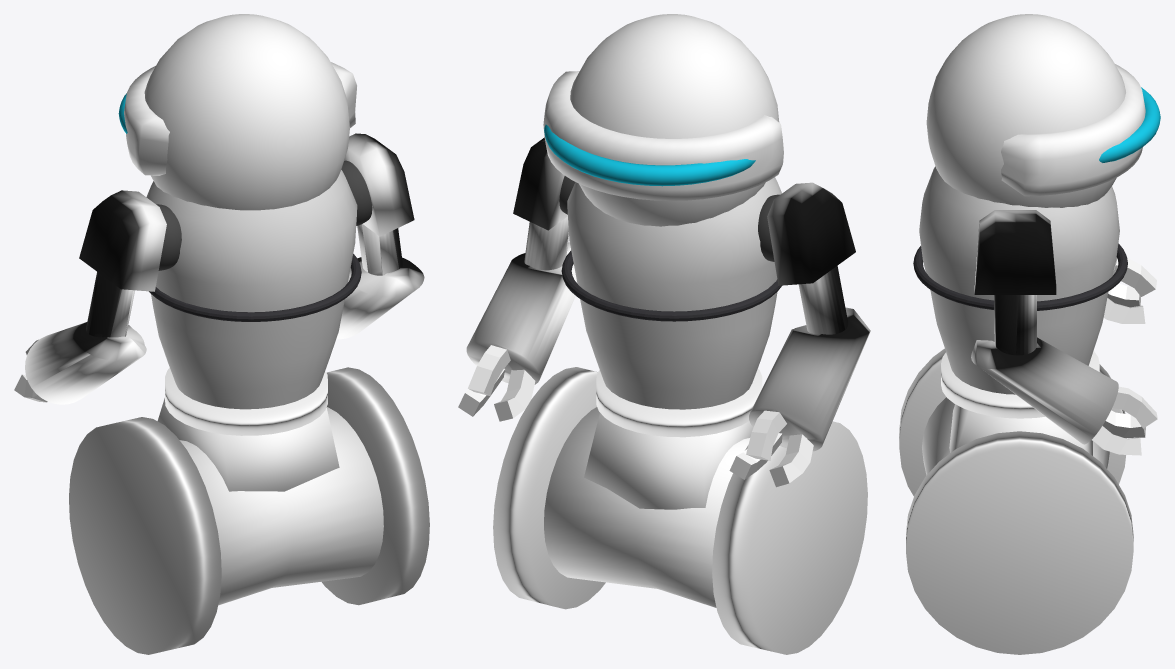
The model's file is robot1.fbx.
3 renders of one model, left to right at view 1: azimuth 30°, elevation 25°; view 2: azimuth 150°, elevation 25°; view 3: azimuth 270°, elevation 25°, orthographic. The views are drawn at different scales.
Parts seen in each view (by area): view 1: Сфера, Сфера.001, Цилиндр.001, Цилиндр, Куб.001, Цилиндр.002, Куб.007, Куб, Цилиндр.003, Torus, Torus.002, Сфера.003 (+1 smaller); view 2: Сфера, Цилиндр.001, Сфера.001, Куб.001, Цилиндр, Куб.007, Цилиндр.002, Torus, Куб, Цилиндр.003, Torus.001, Torus.002 (+1 smaller); view 3: Цилиндр.002, Сфера.001, Куб.007, Сфера, Torus, Цилиндр.001, Куб, Цилиндр.003, Torus.002, Куб.001, Цилиндр, Torus.001.
Boxes of the visible parts, x1,y1,x2,y2 form: Сфера: (146, 170, 357, 409); Сфера.001: (144, 14, 349, 210); Цилиндр.001: (69, 417, 221, 654); Цилиндр: (179, 407, 383, 605); Куб.001: (14, 190, 166, 404); Цилиндр.002: (321, 367, 429, 605); Куб.007: (336, 133, 424, 339); Куб: (157, 398, 339, 491); Цилиндр.003: (165, 368, 327, 435); Torus: (124, 62, 356, 175); Torus.002: (149, 254, 361, 321); Сфера.003: (156, 204, 181, 270); Сфера: (567, 177, 781, 409); Цилиндр.001: (712, 421, 867, 654); Сфера.001: (570, 14, 779, 226); Куб.001: (729, 182, 870, 487); Цилиндр: (544, 407, 749, 607); Куб.007: (458, 137, 577, 421); Цилиндр.002: (493, 367, 605, 609); Torus: (543, 71, 783, 200); Куб: (584, 413, 753, 509); Цилиндр.003: (596, 368, 762, 437); Torus.001: (544, 124, 755, 186); Torus.002: (561, 250, 781, 321); Цилиндр.002: (906, 431, 1133, 654); Сфера.001: (926, 14, 1125, 207); Куб.007: (971, 210, 1157, 455); Сфера: (919, 166, 1119, 394); Torus: (1001, 64, 1145, 196); Цилиндр.001: (899, 348, 1126, 495); Куб: (949, 404, 1092, 455); Цилиндр.003: (941, 350, 1099, 418); Torus.002: (913, 243, 1127, 310); Куб.001: (1103, 257, 1156, 323); Цилиндр: (922, 397, 1109, 475); Torus.001: (1099, 87, 1160, 162).
Size of the model in its own units: 379 by 618 by 255.
